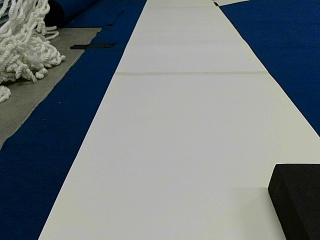block: (267, 165, 319, 239)
